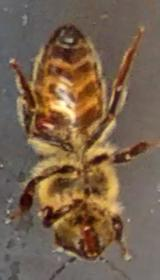varroa_mite: (29, 107, 68, 140)
